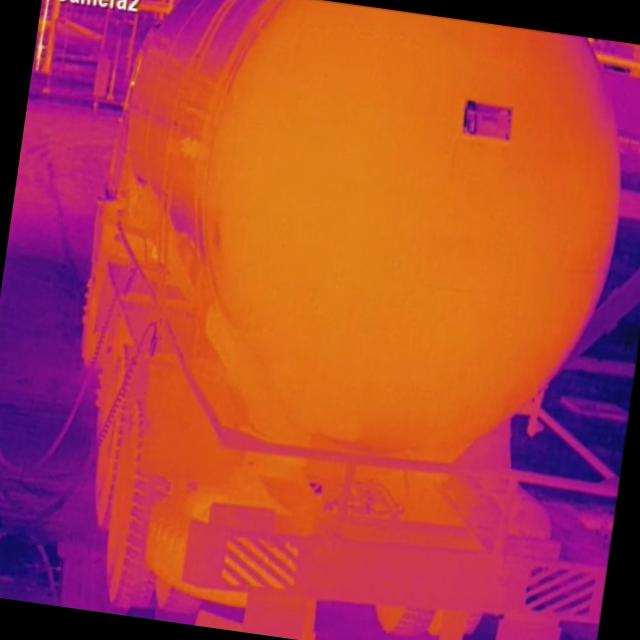tank: (175, 0, 640, 482)
